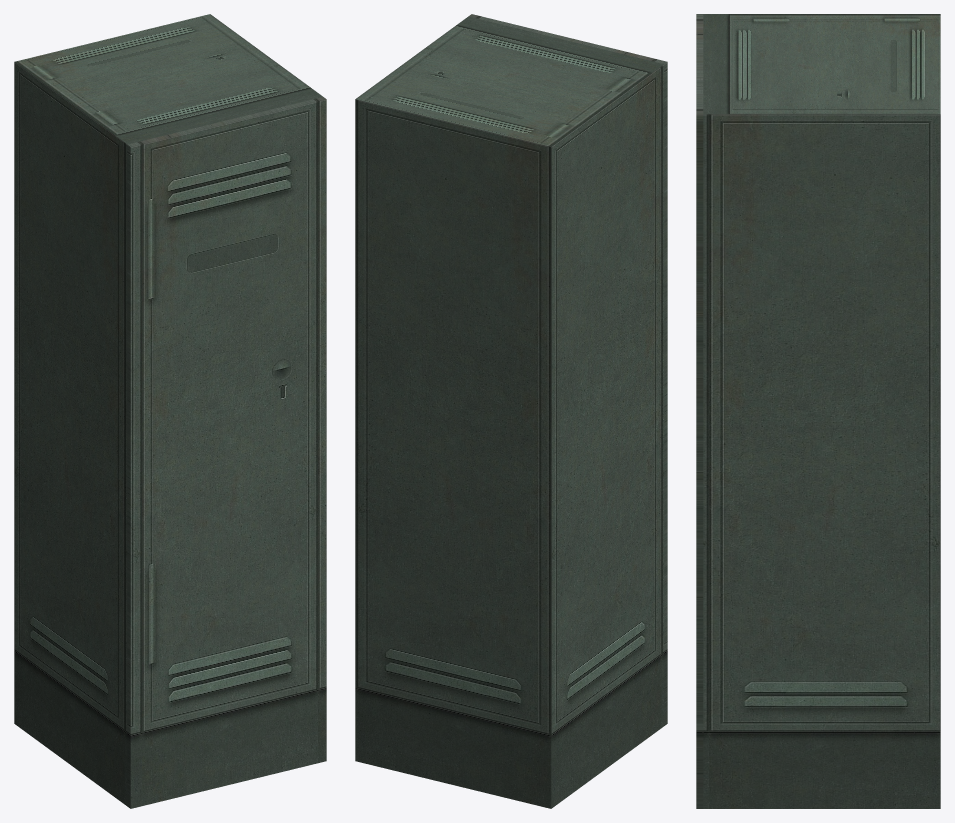
The model's file is Locker.fbx.
The picture shows the model from 3 angles, left to right: view 1: azimuth 30°, elevation 25°; view 2: azimuth 150°, elevation 25°; view 3: azimuth 270°, elevation 25°; orthographic projection. The views are drawn at different scales.
Parts seen in each view (by area): view 1: Cube.001, Cube; view 2: Cube, Cube.001; view 3: Cube, Cube.001.
Part boxes in pixels (x1=…): Cube.001: x1=127, y1=97, x2=326, y2=808; Cube: x1=14, y1=14, x2=322, y2=805; Cube: x1=355, y1=16, x2=664, y2=808; Cube.001: x1=468, y1=14, x2=667, y2=725; Cube: x1=703, y1=14, x2=940, y2=808; Cube.001: x1=696, y1=14, x2=703, y2=808.
Bounding box in the file's own units: 198 × 640 × 204.
